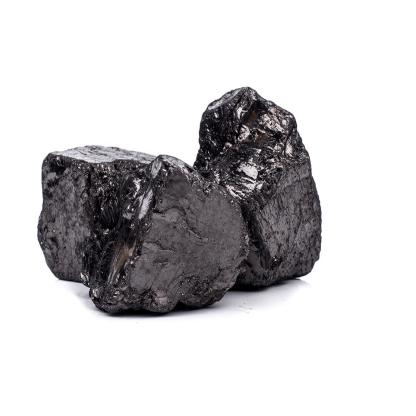Sedimentary_coal: (190, 81, 326, 298), (116, 158, 243, 328), (10, 110, 112, 290)
